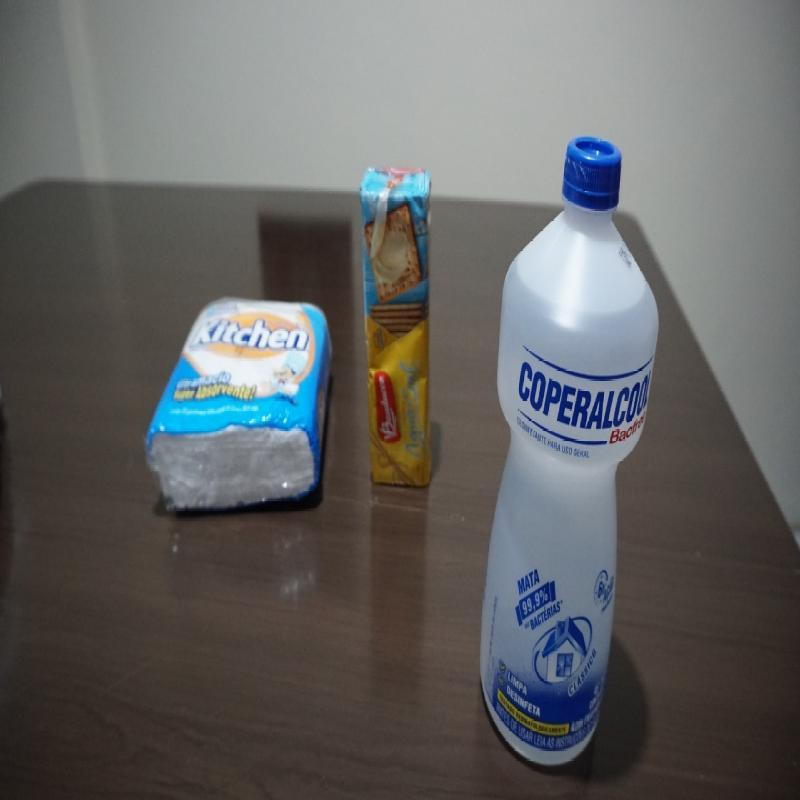Alcohol Bottle: (478, 132, 662, 772)
Cracker: (358, 163, 435, 493)
Napkin: (140, 296, 335, 524)
